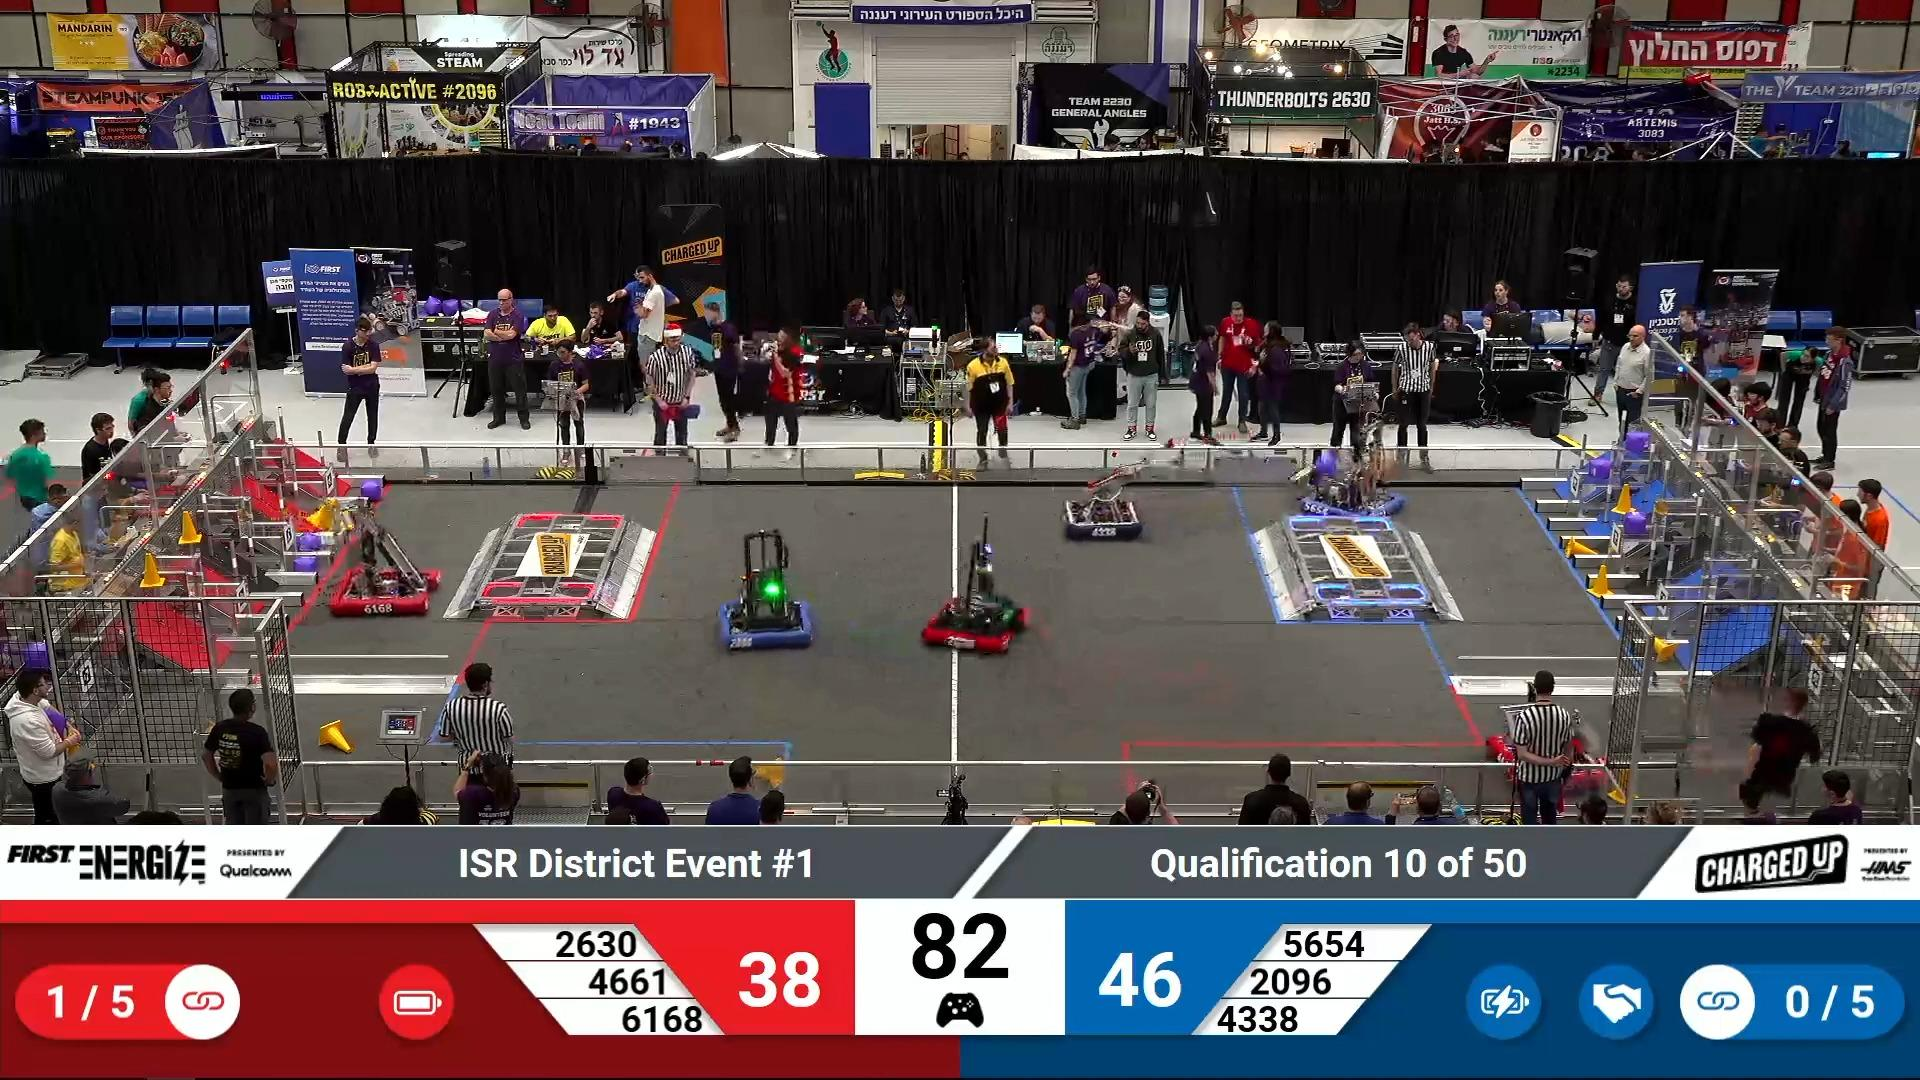robot: (1474, 702, 1618, 799), (328, 538, 448, 617), (919, 576, 1033, 657), (719, 563, 814, 653), (1290, 463, 1412, 525), (1063, 472, 1146, 542)
